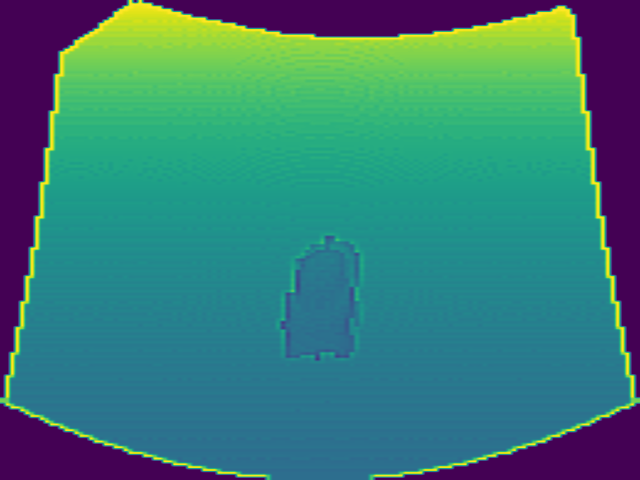car_0027: (278, 231, 364, 363)
